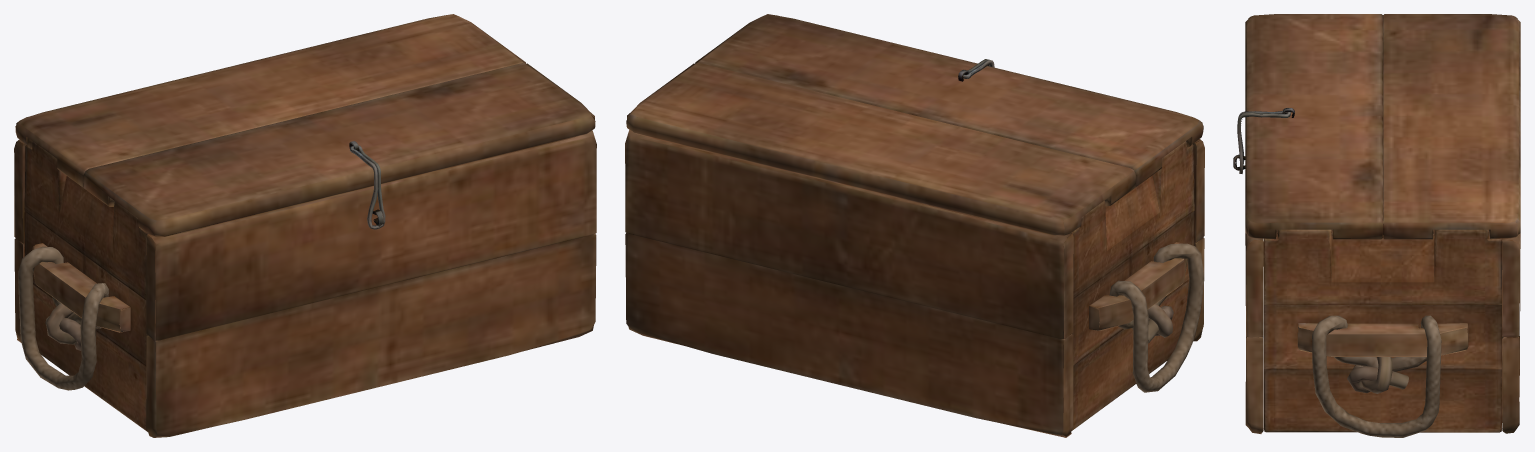
The model's file is wooden_crate_01.gltf.
3 renders of one model, left to right at view 1: azimuth 30°, elevation 25°; view 2: azimuth 150°, elevation 25°; view 3: azimuth 270°, elevation 25°, orthographic. The views are drawn at different scales.
Visible parts, largest first — view 1: wooden_crate_01_lid; view 2: wooden_crate_01_lid; view 3: wooden_crate_01_lid.
Part boxes in pixels (box(x1,y1,x2,y2)): wooden_crate_01_lid: box(14, 14, 596, 437); wooden_crate_01_lid: box(625, 14, 1204, 437); wooden_crate_01_lid: box(1233, 14, 1520, 437).
Bounding box in the file's own units: 0.8247 × 0.3487 × 0.4086.
1 material, 1 textured.
